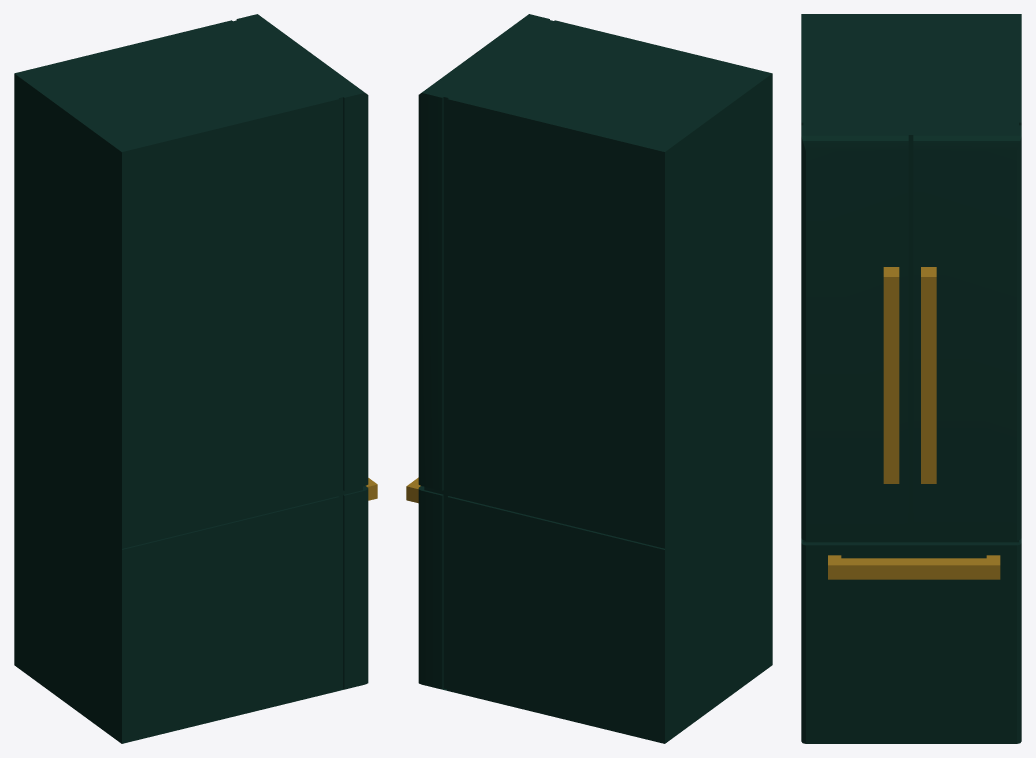
File: Frigo_ProjetVR.fbx
The picture shows the model from 3 angles, left to right: view 1: azimuth 30°, elevation 25°; view 2: azimuth 150°, elevation 25°; view 3: azimuth 270°, elevation 25°; orthographic projection. The views are drawn at different scales.
Visible parts, largest first — view 1: Frigo; view 2: Frigo; view 3: Frigo.
Part boxes in pixels (box(x1,y1,x2,y2)): Frigo: box(14, 14, 377, 743); Frigo: box(406, 14, 772, 743); Frigo: box(801, 14, 1021, 743).
Bounding box in the file's own units: 86.55 × 182 × 60.
